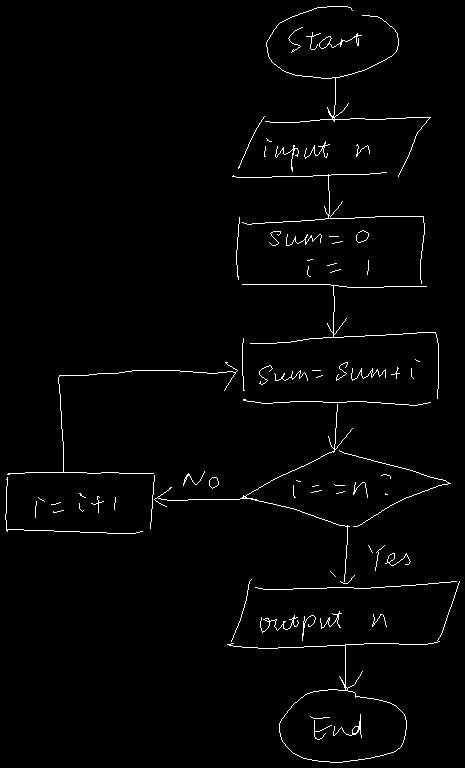arrow: (58, 362, 237, 472), (154, 487, 256, 506), (330, 525, 354, 583), (328, 404, 352, 451), (339, 644, 362, 690), (327, 286, 346, 336), (327, 78, 348, 121), (324, 174, 342, 217)
data: (227, 579, 459, 648), (232, 116, 430, 177)
decision: (239, 450, 450, 526)
process: (242, 332, 438, 405), (236, 216, 426, 287), (5, 472, 154, 533)
terminator: (266, 6, 398, 78), (279, 689, 406, 762)
text: (269, 230, 368, 276), (259, 359, 419, 384), (260, 611, 386, 640), (264, 138, 369, 171), (293, 474, 390, 497), (35, 493, 115, 517), (288, 27, 361, 52), (310, 714, 361, 739), (368, 545, 410, 570), (183, 471, 218, 488)
